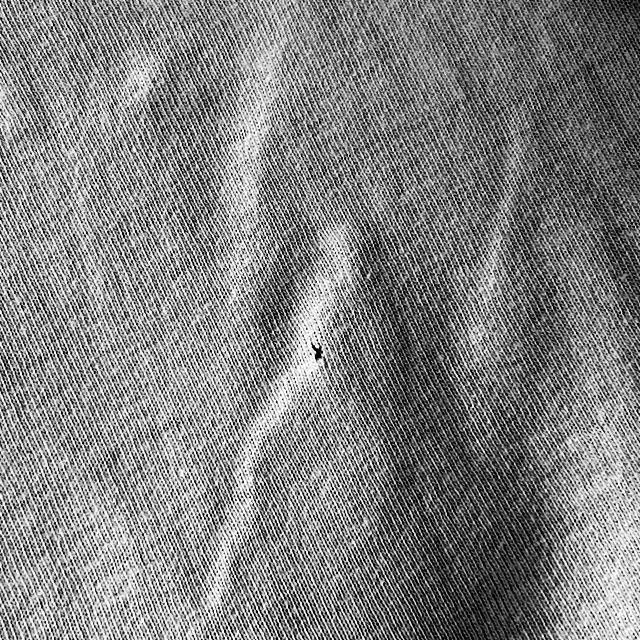Hole: (299, 337, 334, 366)
